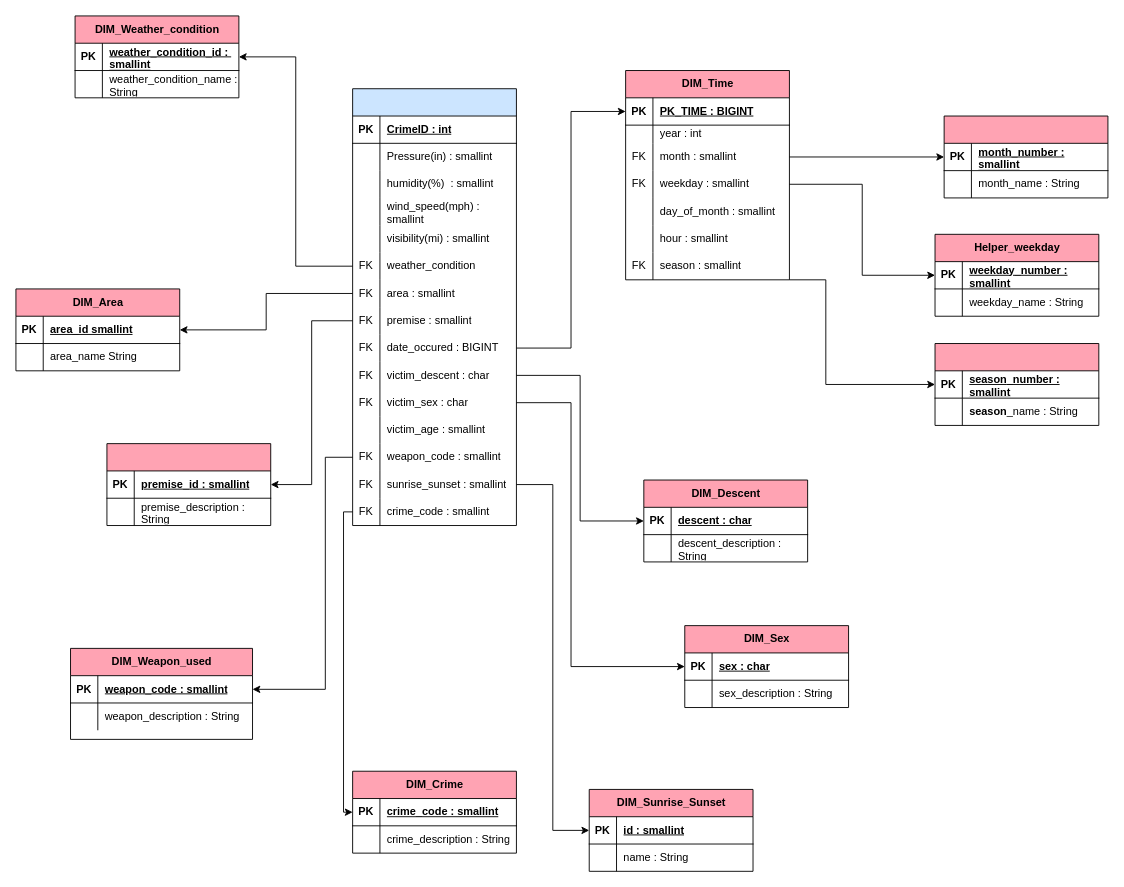
Image size: 1124x887. Some labels were removed from this diagram. Each missing label, with the box of its shape:
DIM_Premise: (106, 443, 271, 526)
Fact_Crimes: (352, 88, 516, 526)
Helper_month: (943, 115, 1108, 198)
Helper_season: (934, 343, 1099, 425)
